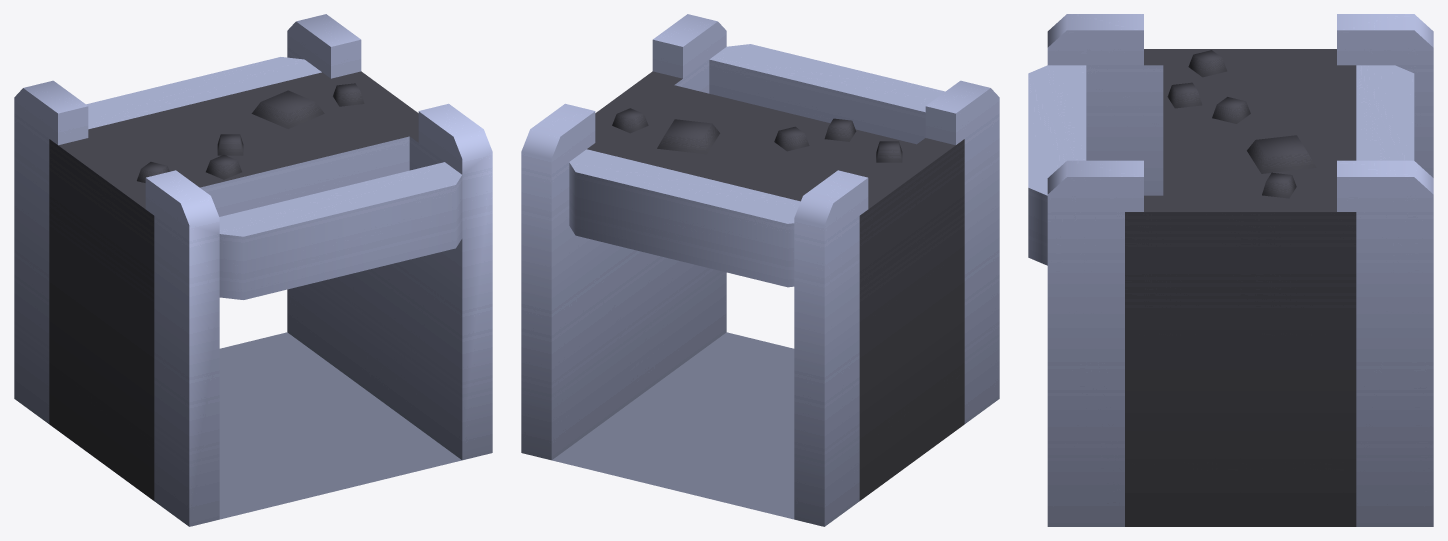
Rendered from wall-opening.glb.
3 views of the same model, side by side, from view 1: azimuth 30°, elevation 25°; view 2: azimuth 150°, elevation 25°; view 3: azimuth 270°, elevation 25° (orthographic). The views are drawn at different scales.
Parts seen in each view (by area): view 1: wall-opening; view 2: wall-opening; view 3: wall-opening.
Boxes of the visible parts, bbox=[...] form: wall-opening: bbox=[14, 14, 492, 526]; wall-opening: bbox=[521, 14, 999, 526]; wall-opening: bbox=[1028, 14, 1433, 526].
Size of the model in its own units: 1 by 1 by 1.05.
1 material, 1 textured.
